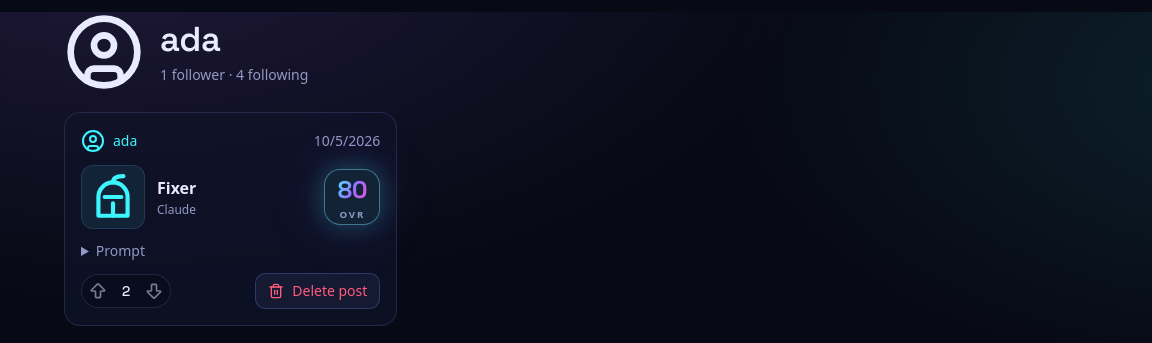
Test case: on my own profile: no follow button, and I can delete my posts
Click the button "Delete post": (318,291) [255,273,380,309]
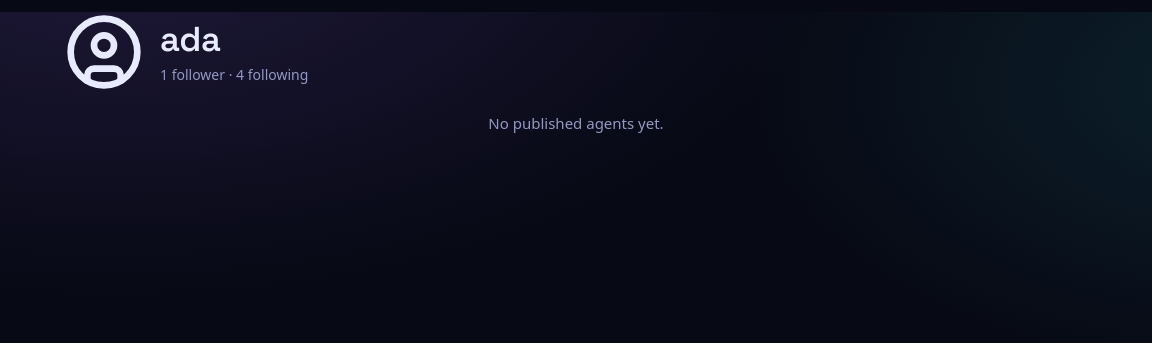
Check: the text "No published agents yet." is shown, box [488,113,664,133]
